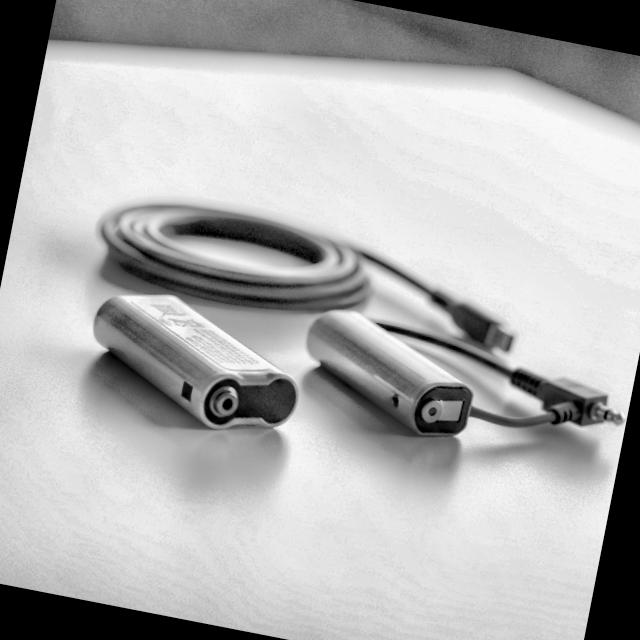Battery: (76, 273, 314, 444), (290, 299, 486, 447)
Cable: (83, 156, 524, 355), (468, 349, 620, 456)
